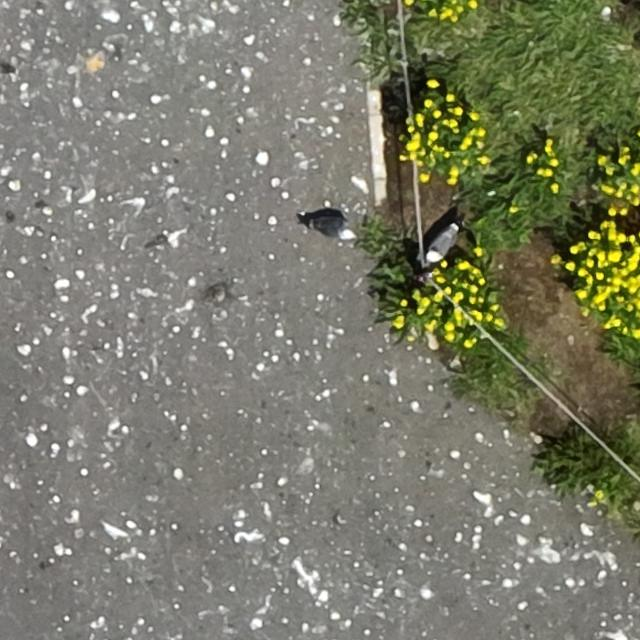umineko: (428, 225, 456, 260), (311, 217, 353, 240)
